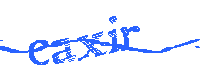a: (51, 38, 77, 65)
c: (29, 40, 49, 66)
i: (108, 15, 119, 54)
r: (120, 24, 140, 53)
x: (79, 32, 105, 60)
